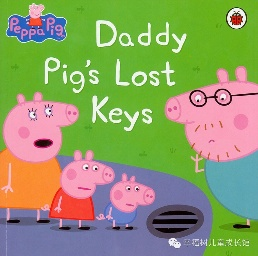Peppa: (41, 148, 115, 234)
